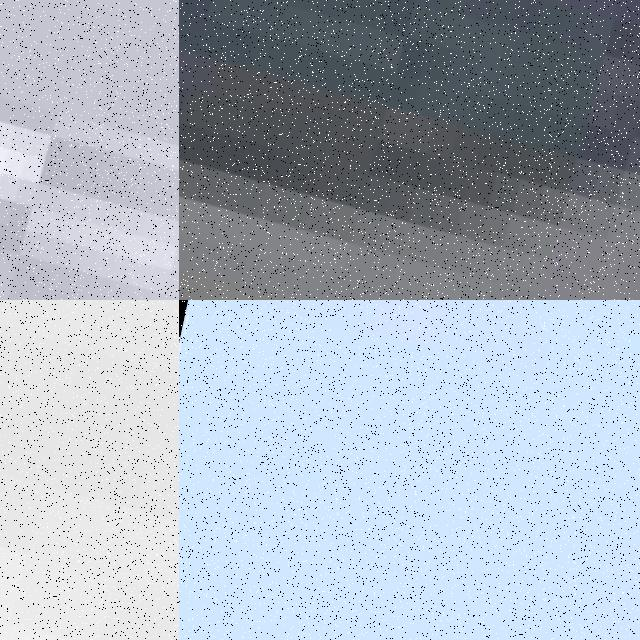drone: (179, 300, 640, 640), (179, 0, 640, 300), (0, 300, 179, 640), (0, 0, 179, 300)
